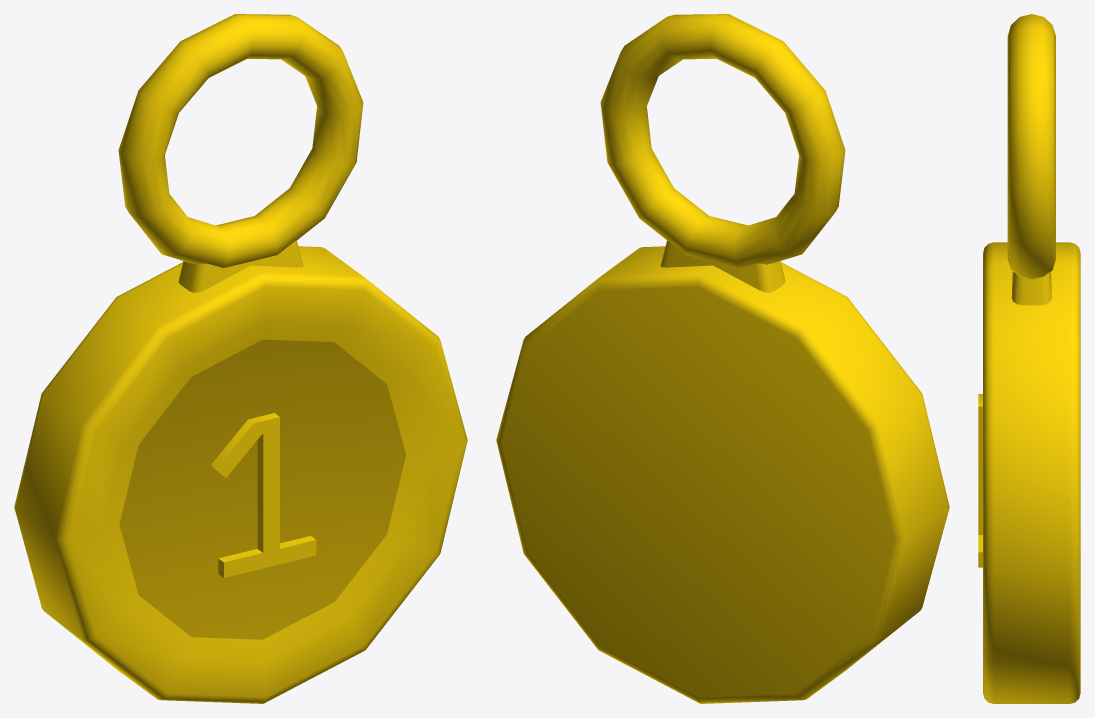
The model's file is Medal_1.fbx.
The picture shows the model from 3 angles, left to right: view 1: azimuth 30°, elevation 25°; view 2: azimuth 150°, elevation 25°; view 3: azimuth 270°, elevation 25°; orthographic projection. The views are drawn at different scales.
Parts seen in each view (by area): view 1: Medal_1; view 2: Medal_1; view 3: Medal_1.
Boxes of the visible parts, x1=… form: Medal_1: x1=14, y1=14, x2=467, y2=703; Medal_1: x1=496, y1=14, x2=949, y2=703; Medal_1: x1=978, y1=14, x2=1080, y2=703.
Size of the model in its own units: 0.1395 by 0.2181 by 0.0308.
